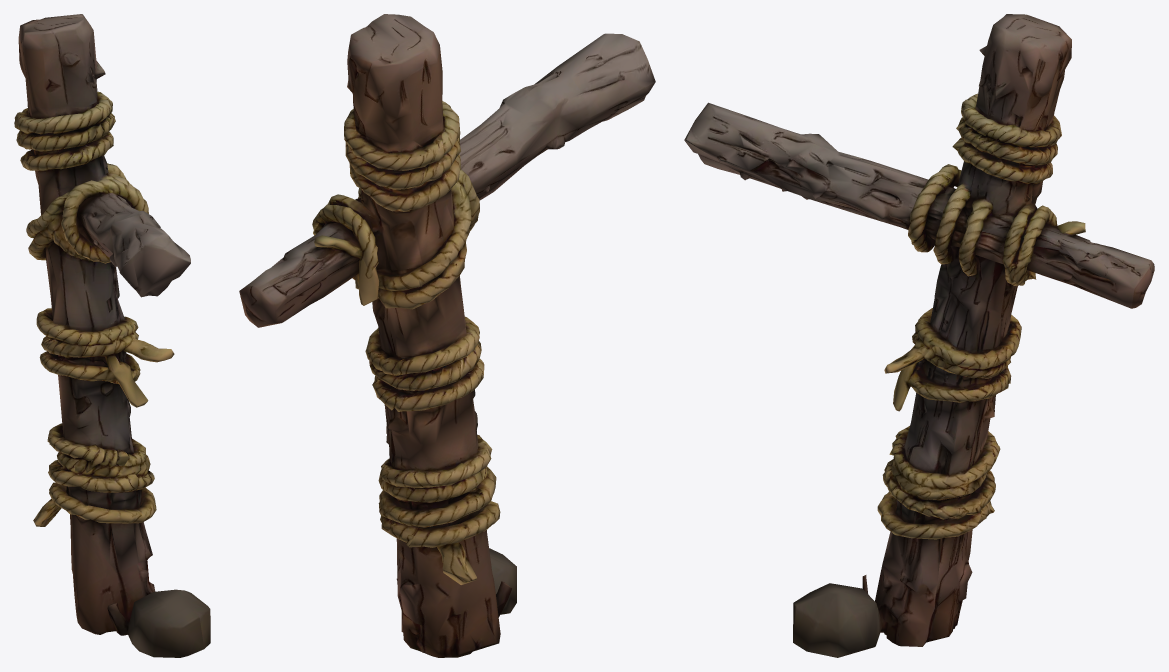
3 views of the same model, side by side, from view 1: azimuth 30°, elevation 25°; view 2: azimuth 150°, elevation 25°; view 3: azimuth 270°, elevation 25° (orthographic). The views are drawn at different scales.
Visible parts, largest first — view 1: tripo_node_f9a23171-205b-4ec8-86fc-ebefc15439a8; view 2: tripo_node_f9a23171-205b-4ec8-86fc-ebefc15439a8; view 3: tripo_node_f9a23171-205b-4ec8-86fc-ebefc15439a8.
Boxes of the visible parts, bbox=[...] form: tripo_node_f9a23171-205b-4ec8-86fc-ebefc15439a8: bbox=[14, 14, 210, 657]; tripo_node_f9a23171-205b-4ec8-86fc-ebefc15439a8: bbox=[239, 14, 655, 657]; tripo_node_f9a23171-205b-4ec8-86fc-ebefc15439a8: bbox=[684, 14, 1154, 657].
Size of the model in its own units: 0.3014 by 0.9995 by 0.7025.
1 material, 1 textured.
